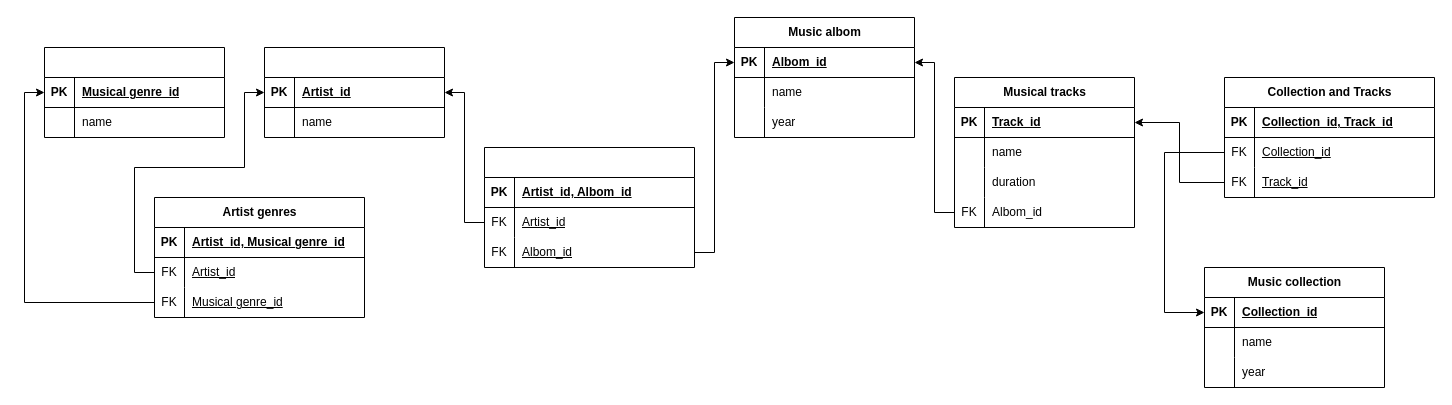
Image size: 1452x405. Some labels were removed from this diagram. Here are the shapes that lost their labels. From the top down, the box of each, then its label:
(44, 46, 224, 138): Musical genres
(264, 46, 444, 138): Music artist
(484, 146, 694, 268): Artist alboms
